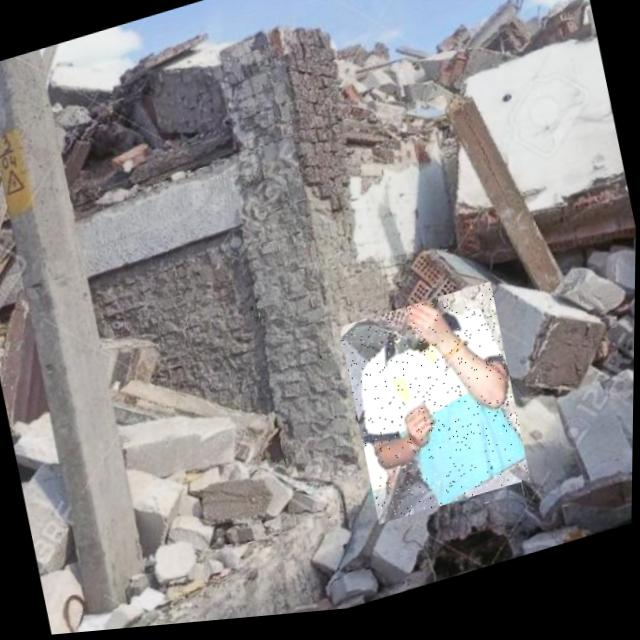Person in Rubble: (338, 287, 534, 534)
